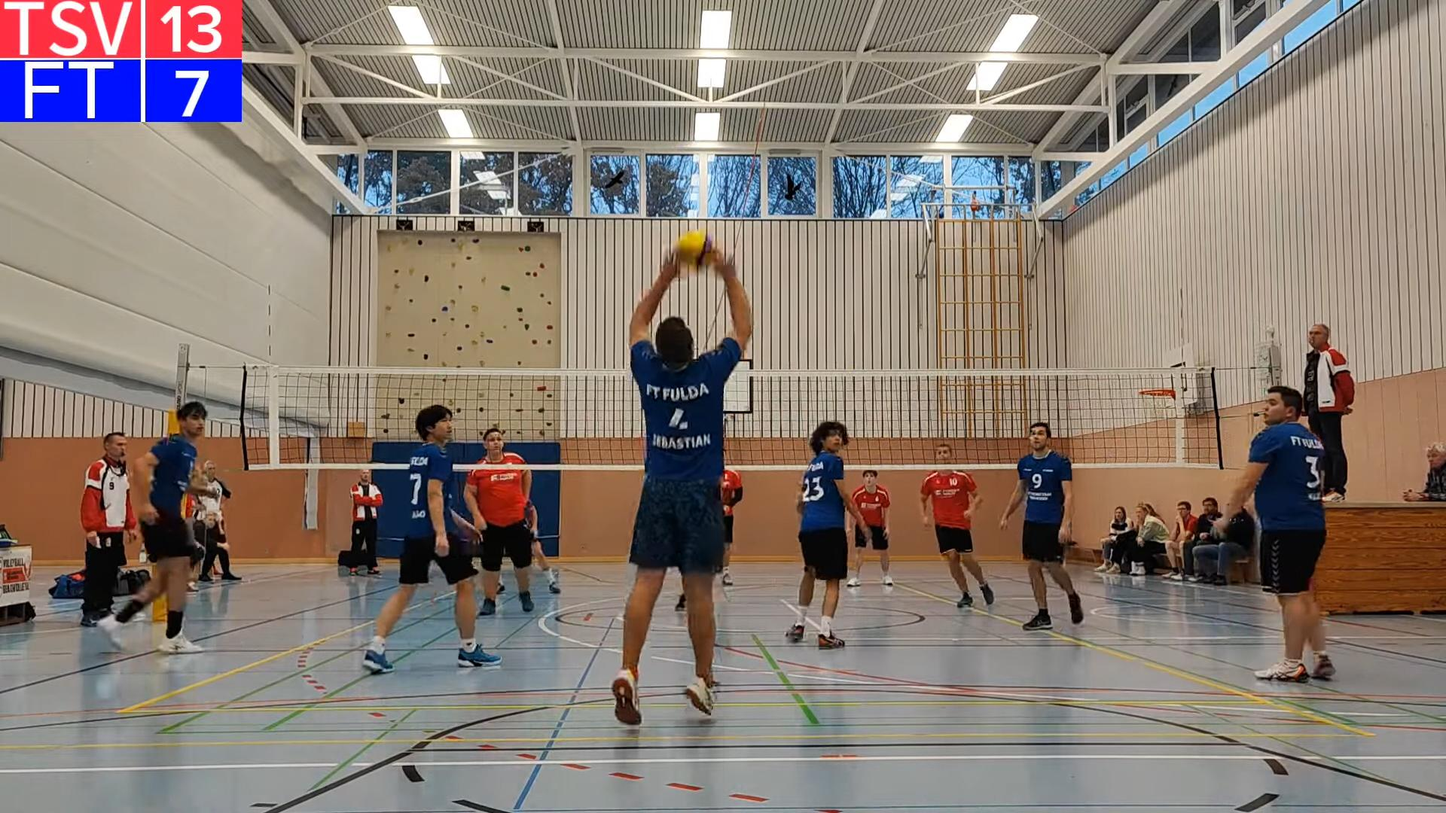Player: (364, 405, 500, 673), (1216, 386, 1335, 681), (97, 401, 209, 653), (787, 422, 864, 648), (1000, 422, 1083, 630), (465, 427, 533, 615), (920, 443, 993, 607), (846, 470, 893, 587), (526, 500, 560, 592), (719, 469, 742, 586), (720, 469, 743, 586)
Receive: (608, 233, 764, 728)
ball: (671, 226, 718, 257)
